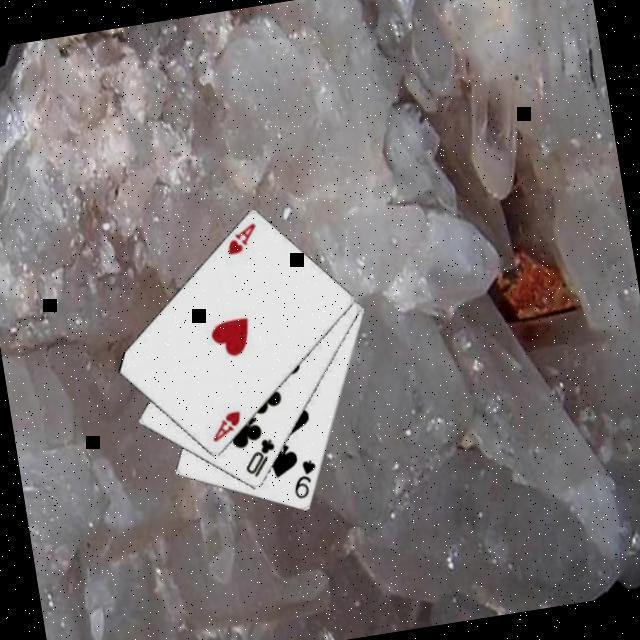10C: (241, 436, 285, 483)
9S: (290, 457, 326, 504)
AH: (222, 221, 265, 261), (208, 409, 251, 448)
